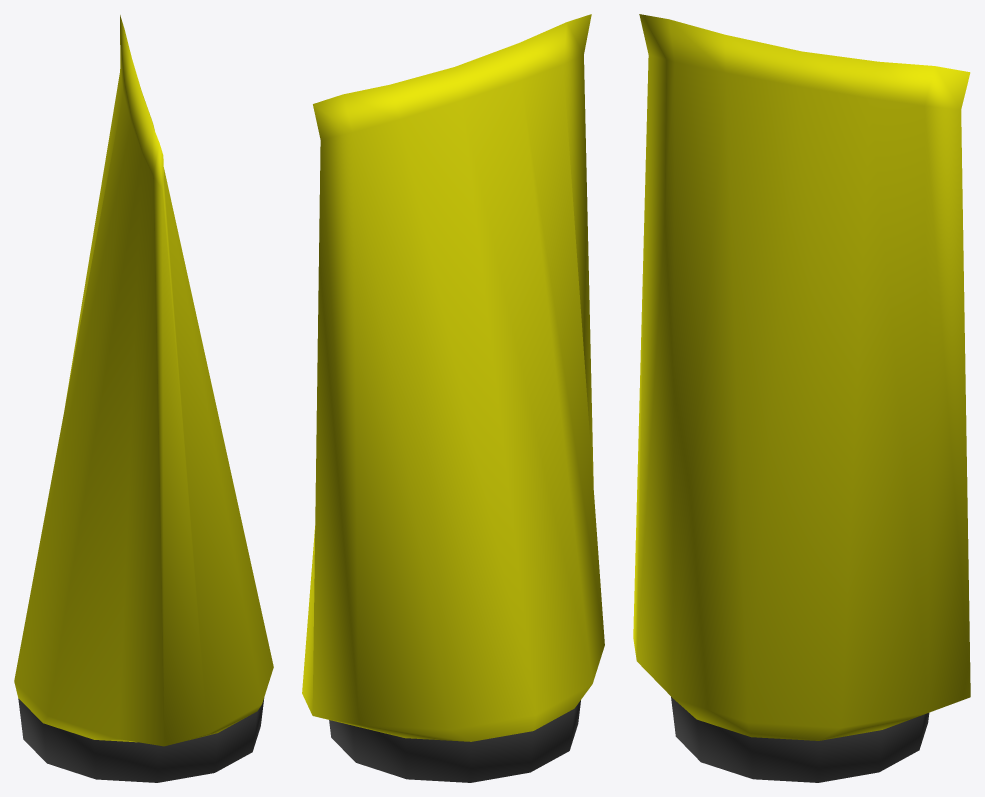
Rendered from Bottle_03_Collider.fbx.
3 views of the same model, side by side, from view 1: azimuth 30°, elevation 25°; view 2: azimuth 150°, elevation 25°; view 3: azimuth 270°, elevation 25° (orthographic). The views are drawn at different scales.
Visible parts, largest first — view 1: Bottle_03_Collider; view 2: Bottle_03_Collider; view 3: Bottle_03_Collider.
Part boxes in pixels (bbox=[...]): Bottle_03_Collider: bbox=[14, 15, 273, 782]; Bottle_03_Collider: bbox=[302, 14, 604, 782]; Bottle_03_Collider: bbox=[633, 14, 970, 782].
Bounding box in the file's own units: 18.97 × 51.02 × 22.71.
